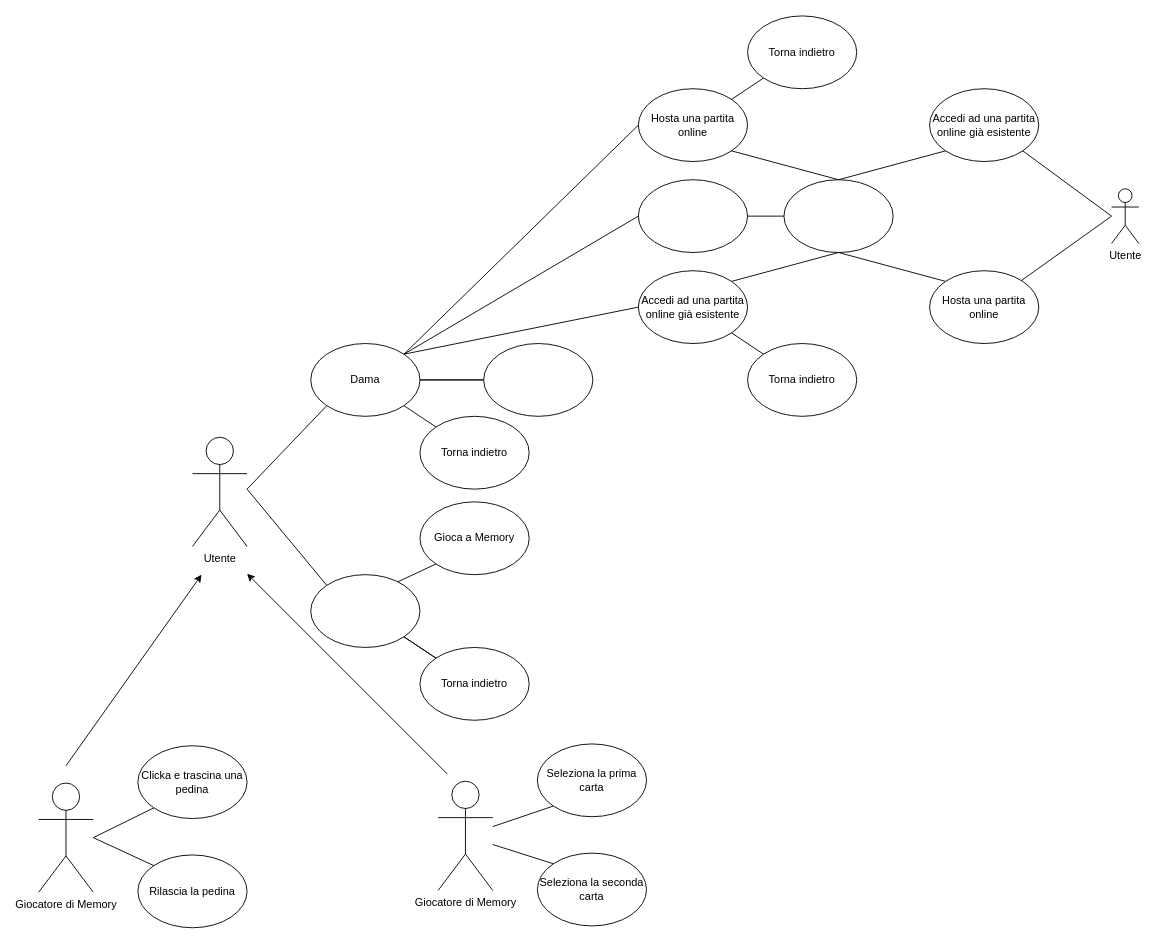
Some shapes in this 1157 by 944 pixel diagram are drawn without their labels. Here are the shapes that lost their labels. From the top down, the box of each, then its label:
(637, 179, 748, 253): Partita in locale
(783, 179, 893, 253): Gioca a Dama
(483, 343, 593, 416): Imposta username
(310, 574, 420, 647): Memory
